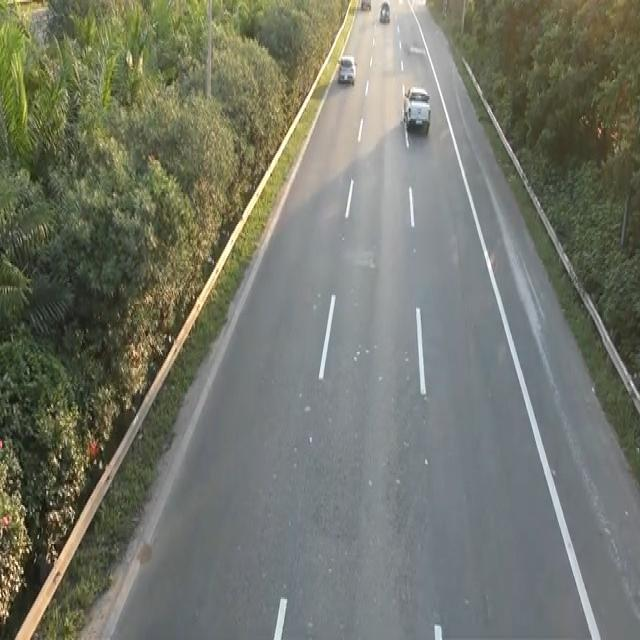bus: (336, 51, 357, 85), (378, 0, 390, 23)
car: (400, 80, 435, 140)
